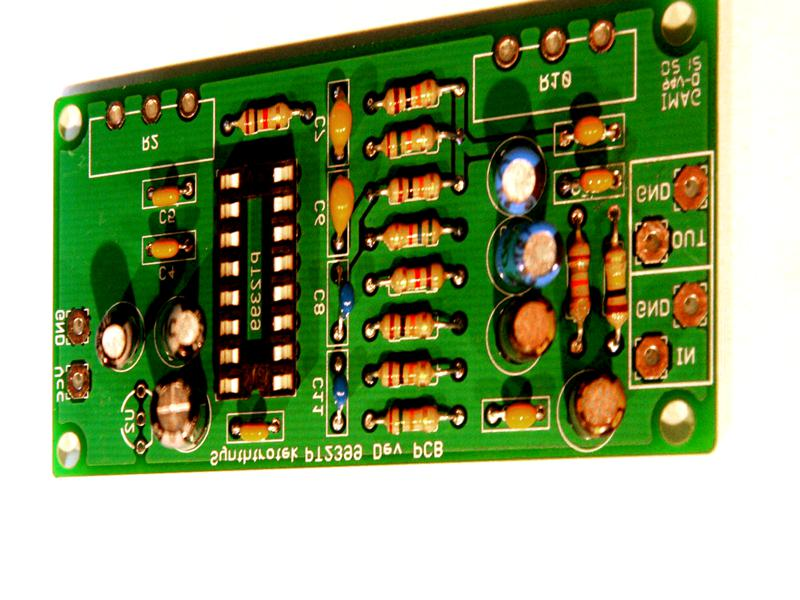Capacitor: (148, 373, 214, 456), (491, 219, 563, 291), (488, 139, 549, 215), (566, 373, 629, 443), (494, 296, 557, 364), (153, 293, 207, 368), (90, 301, 144, 371)
Resistor: (597, 231, 635, 336), (563, 231, 594, 331), (379, 74, 445, 118), (375, 213, 451, 250), (379, 167, 450, 206), (374, 403, 449, 439), (375, 120, 446, 158), (380, 258, 451, 296), (374, 309, 443, 343), (372, 356, 443, 389), (232, 96, 292, 134)
